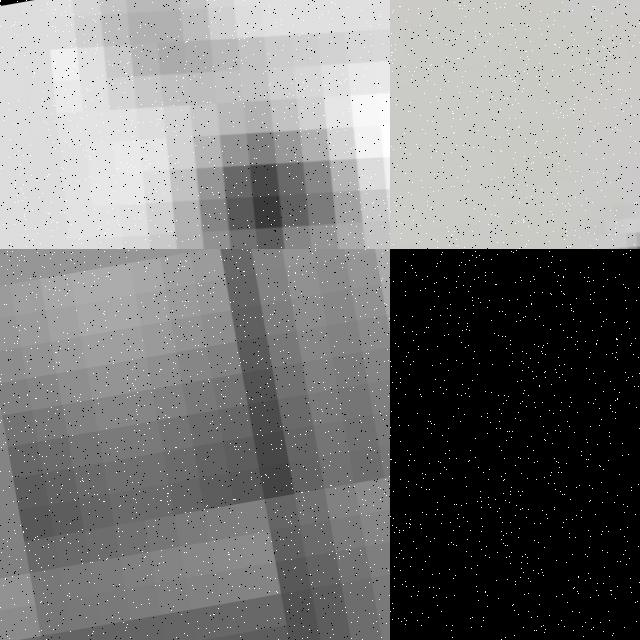0: (0, 0, 390, 249)
drone: (390, 0, 640, 249)
